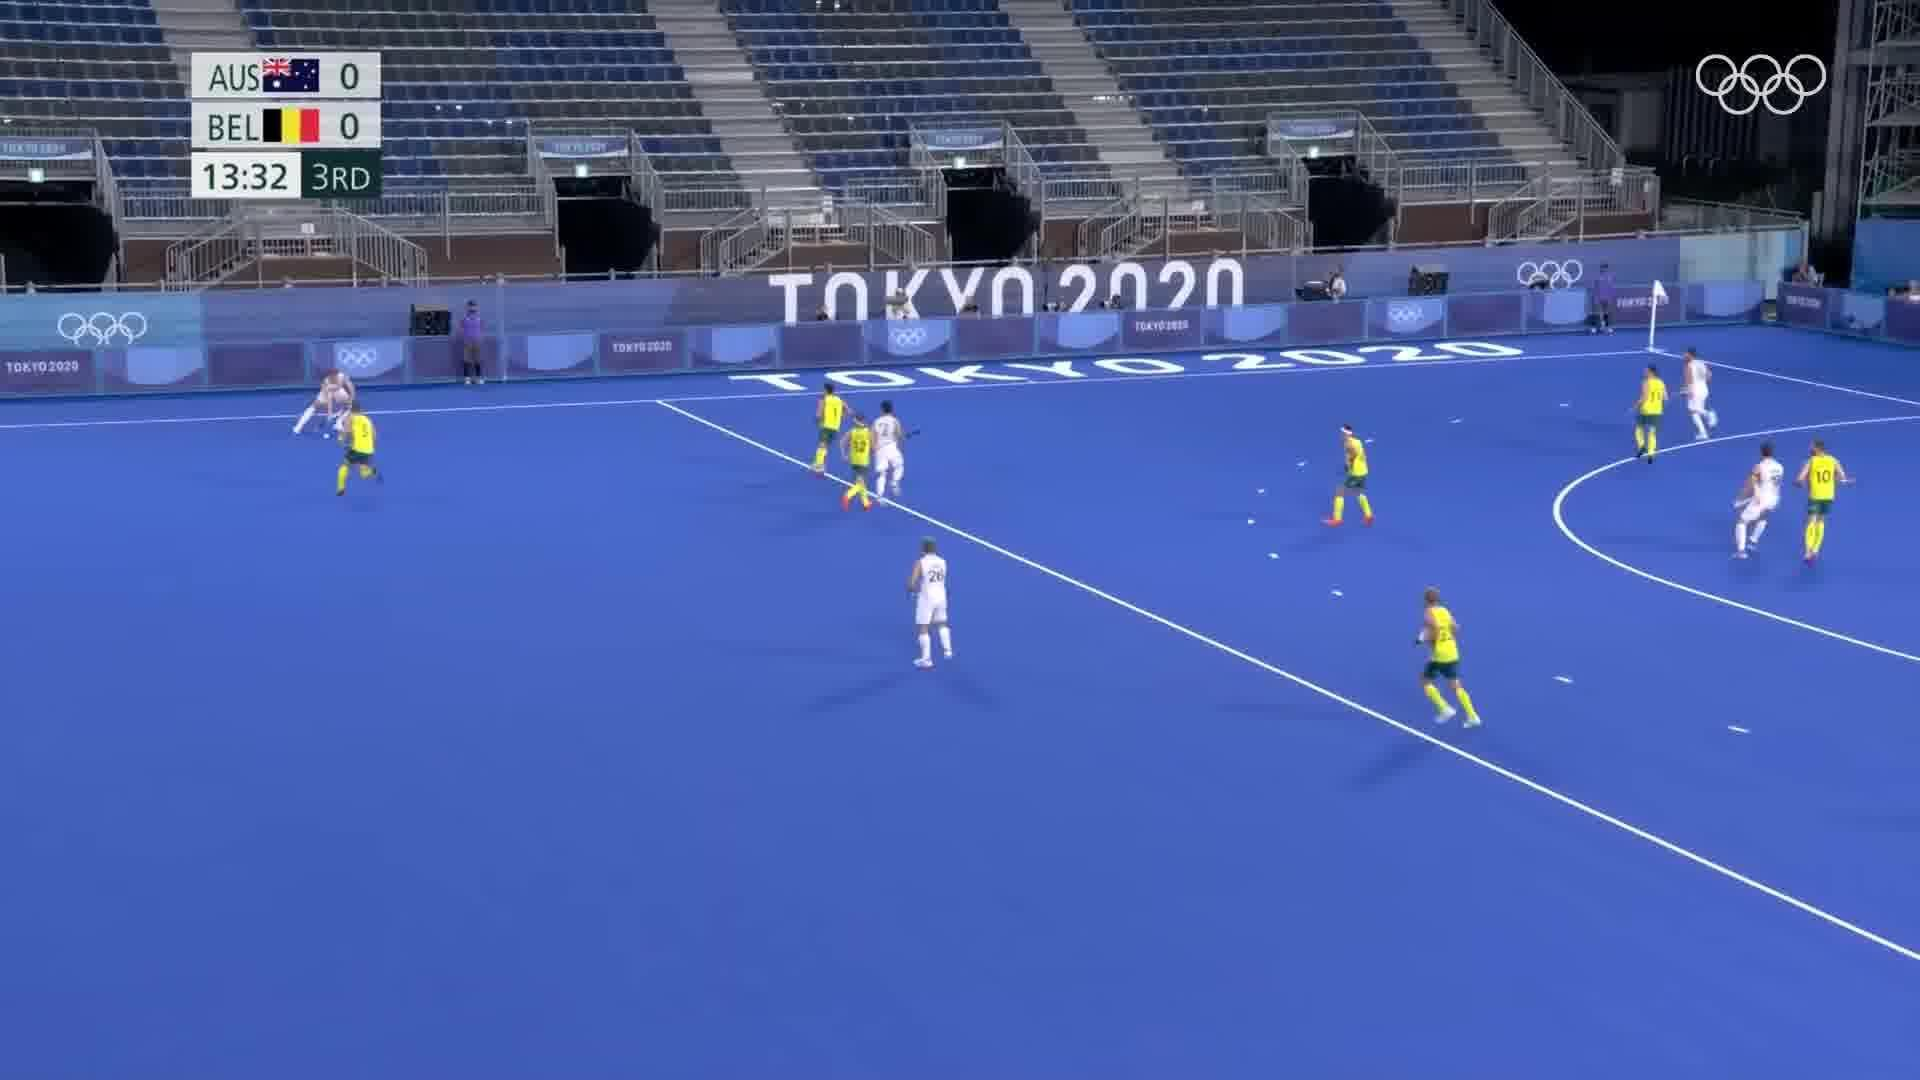ball: (320, 430, 331, 442)
